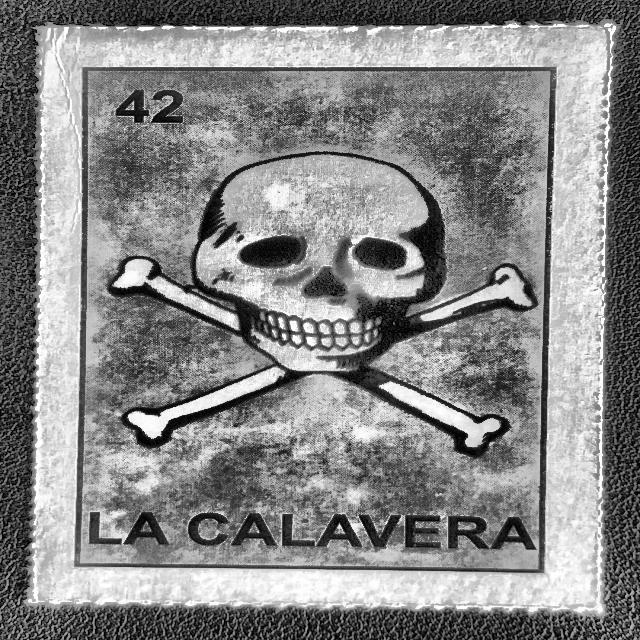La Calavera: (59, 58, 580, 593)
